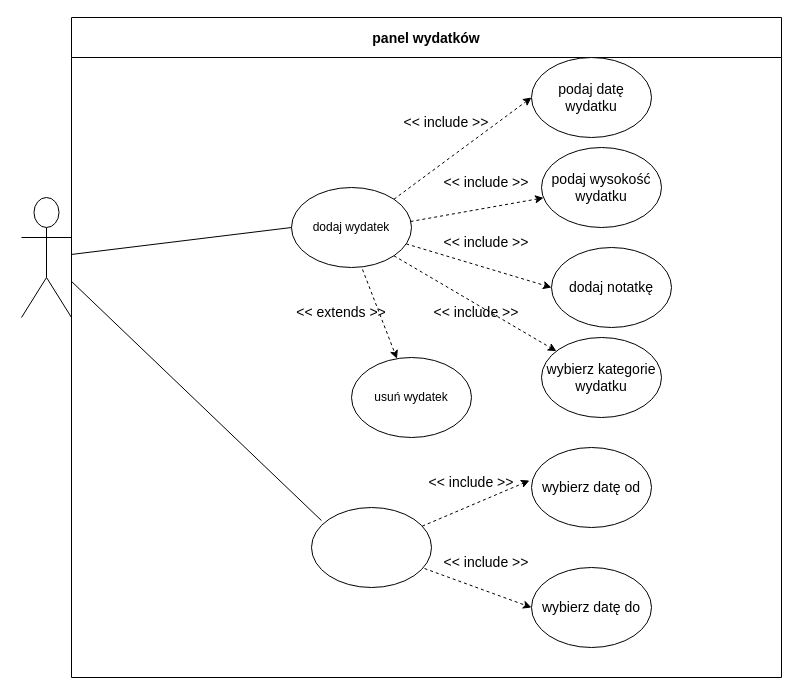
The diagram is 799 pixels wide and 695 high, and some of its shapes have lost their labels. Here are the shapes that lost their labels. From the top down, the centre of each, then its label:
At [46,257]: "użytkownik".
At [371,547]: "filtruj wydatki po dacie ich wystąpienia".
